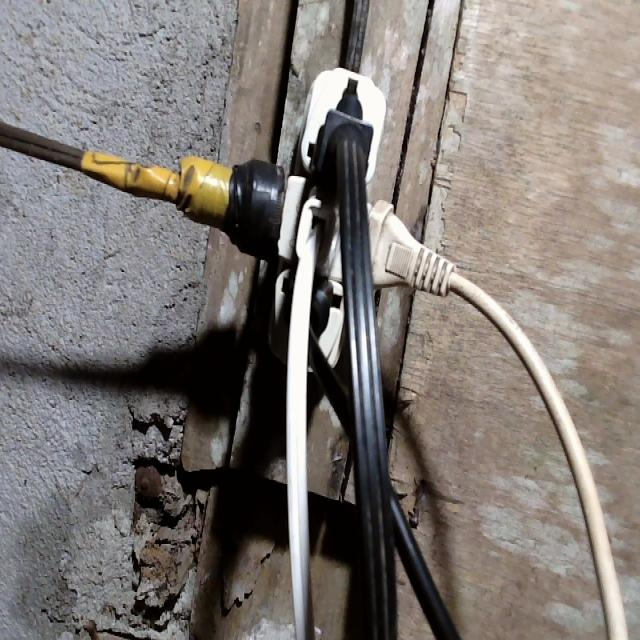-: (158, 59, 471, 406)
